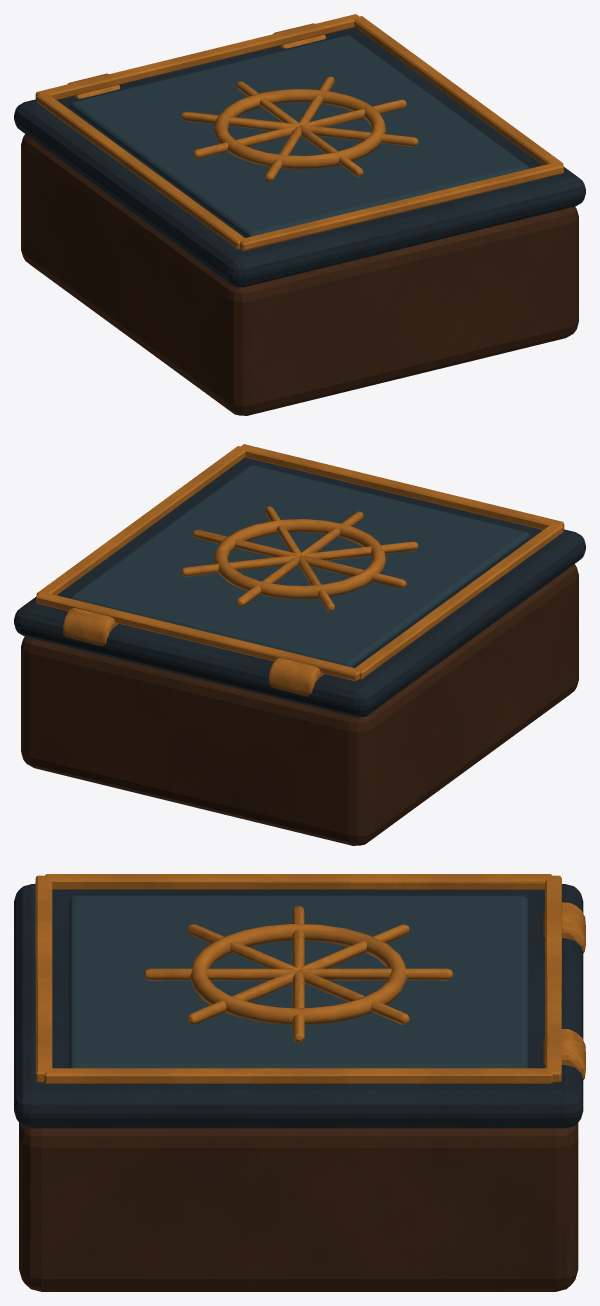
Rendered from compartment_low.glb.
3 renders of one model, top to bottom at view 1: azimuth 30°, elevation 25°; view 2: azimuth 150°, elevation 25°; view 3: azimuth 270°, elevation 25°, orthographic. The views are drawn at different scales.
Parts seen in each view (by area): view 1: Patinated_bronze, Obsidian, Brushed_gold, Weathered_basalt; view 2: Patinated_bronze, Obsidian, Brushed_gold, Weathered_basalt; view 3: Patinated_bronze, Obsidian, Weathered_basalt, Brushed_gold.
Part boxes in pixels (x1,y1,x2,y2): Patinated_bronze: [21, 134, 578, 415]; Obsidian: [70, 35, 529, 237]; Brushed_gold: [35, 14, 564, 251]; Weathered_basalt: [14, 27, 585, 287]; Patinated_bronze: [21, 564, 578, 845]; Obsidian: [70, 465, 529, 667]; Brushed_gold: [35, 444, 564, 696]; Weathered_basalt: [14, 457, 585, 717]; Patinated_bronze: [19, 1122, 578, 1291]; Obsidian: [69, 895, 528, 1068]; Weathered_basalt: [14, 884, 583, 1128]; Brushed_gold: [35, 874, 585, 1083].
Bounding box in the file's own units: 1.04 × 0.4981 × 1.15.
Materials: 4 (3 with a texture image).
